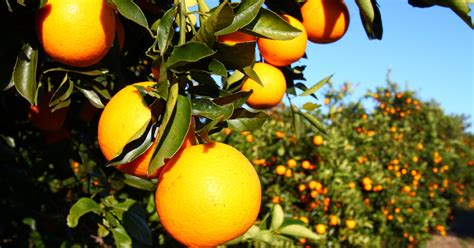orange: (152, 140, 263, 248), (33, 1, 121, 67)
